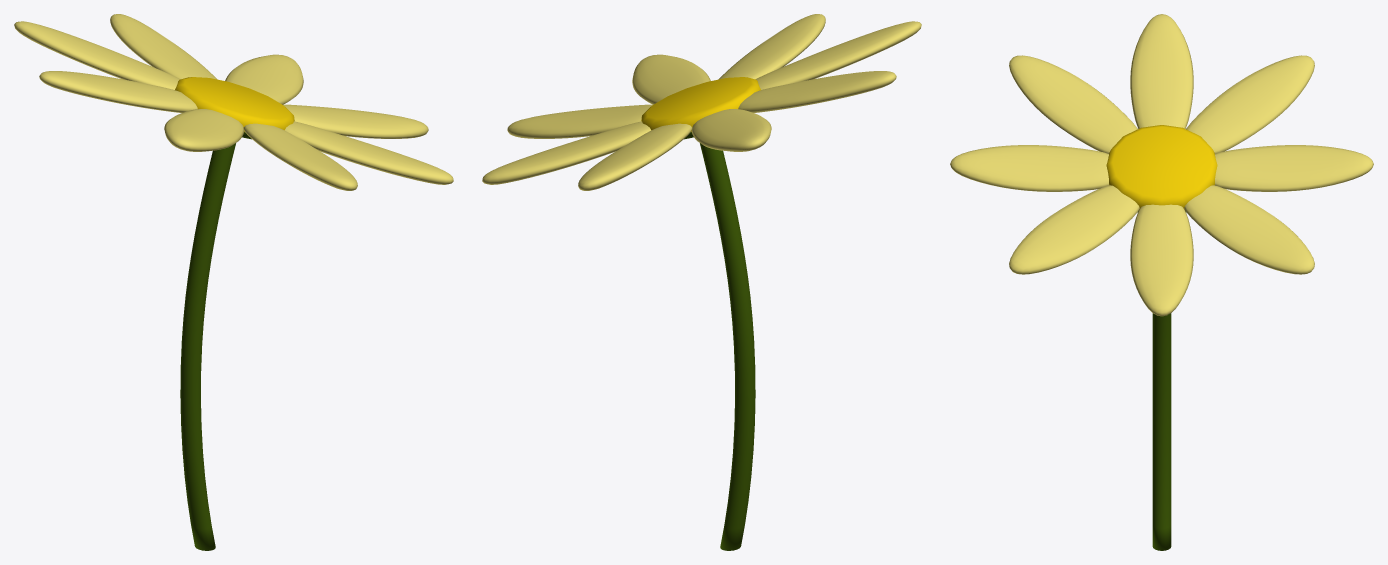
The model's file is margarida.fbx.
3 renders of one model, left to right at view 1: azimuth 30°, elevation 25°; view 2: azimuth 150°, elevation 25°; view 3: azimuth 270°, elevation 25°, orthographic. The views are drawn at different scales.
Visible parts, largest first — view 1: FLOWER; view 2: FLOWER; view 3: FLOWER.
Boxes of the visible parts, x1,y1,x2,y2 form: FLOWER: (14, 14, 453, 550); FLOWER: (482, 14, 921, 550); FLOWER: (950, 14, 1373, 550).
Size of the model in its own units: 505 by 640 by 532.
